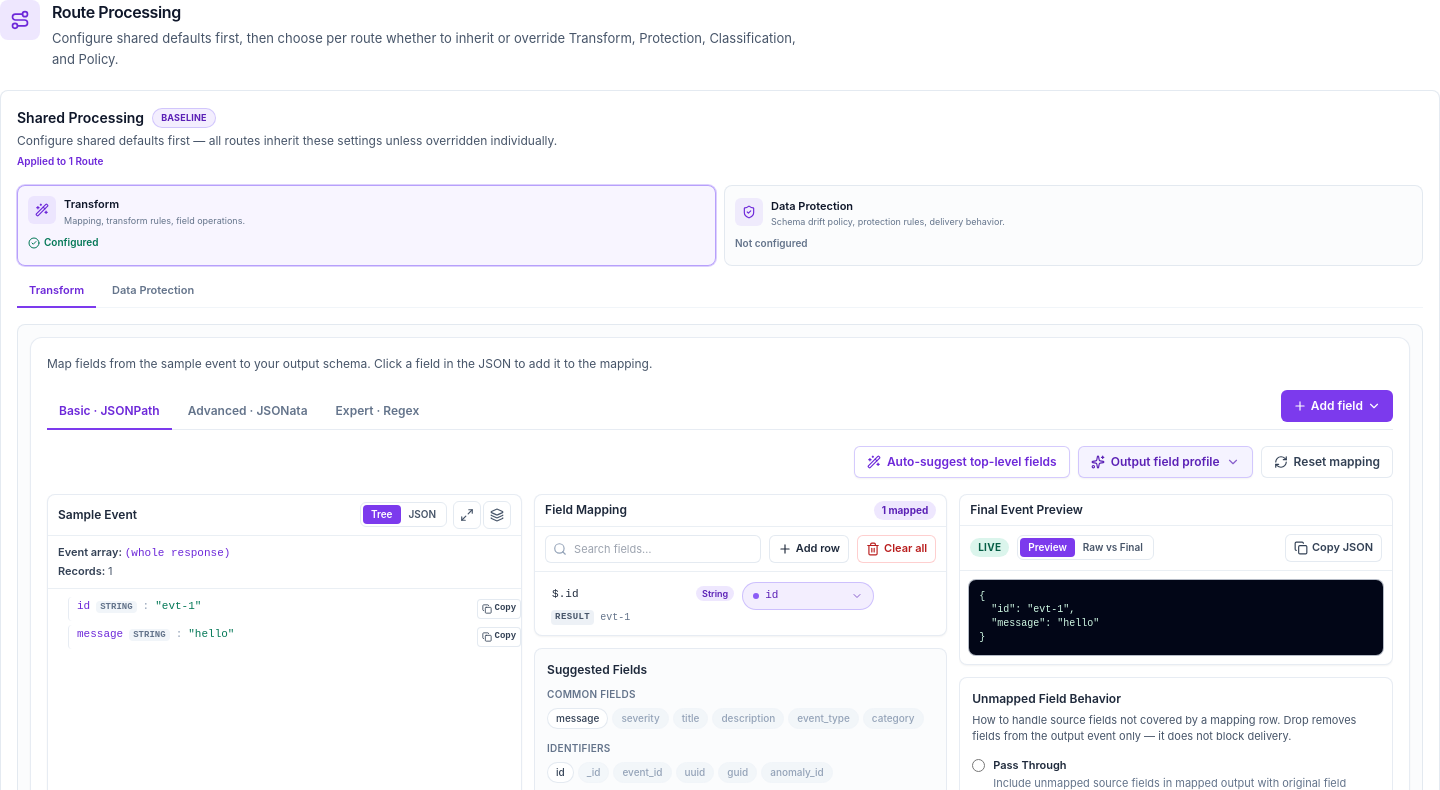
Test case: StepRouteProcessing › shows shared processing concern tabs and switches editors
The image size is (1440, 790).
Click the tab with test id "shared-processing-tab-data_protection" at (153, 295), box [100, 282, 206, 308]
(page scrolled)
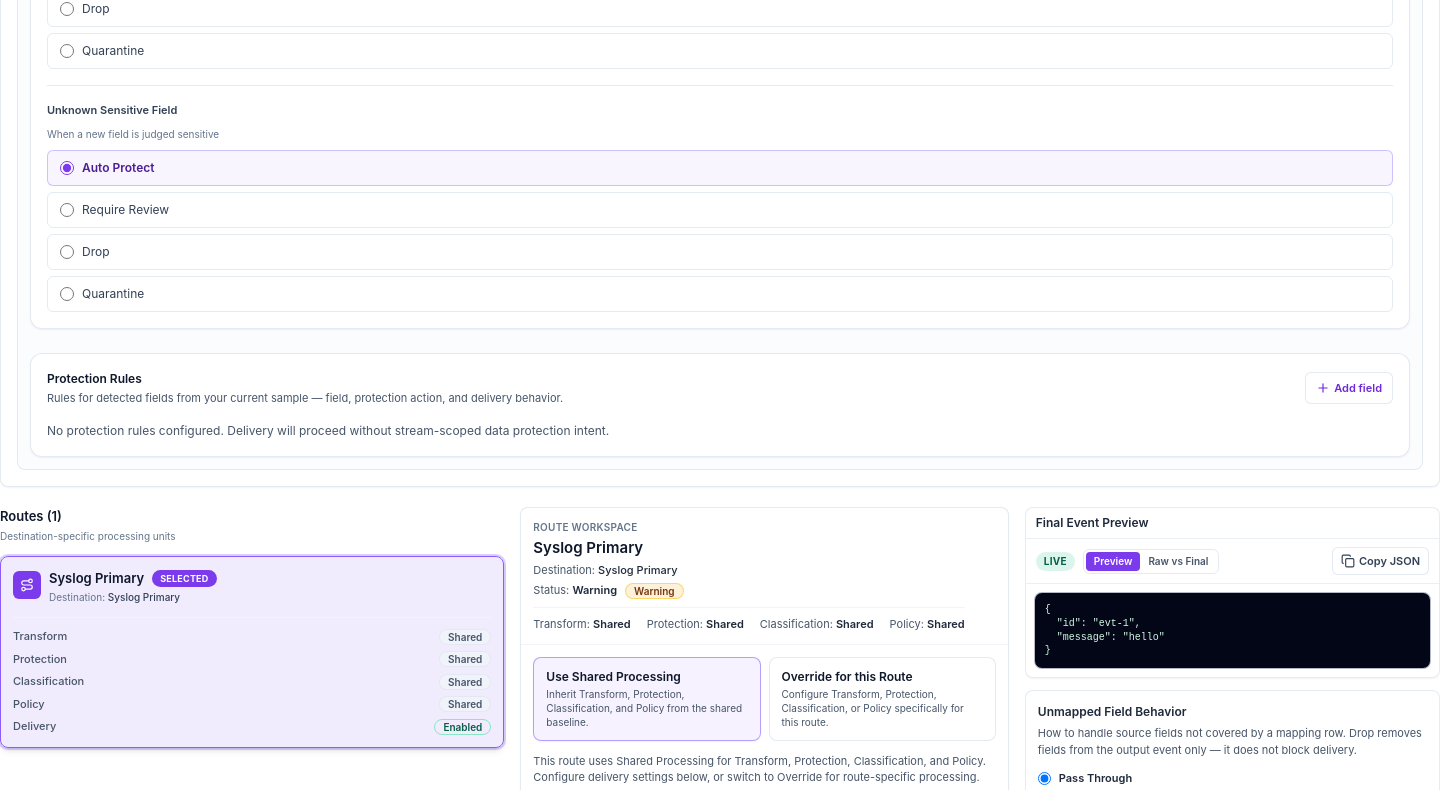
Result: the element with test id "protection-rules-section" is shown at [30, 353, 1410, 457]
